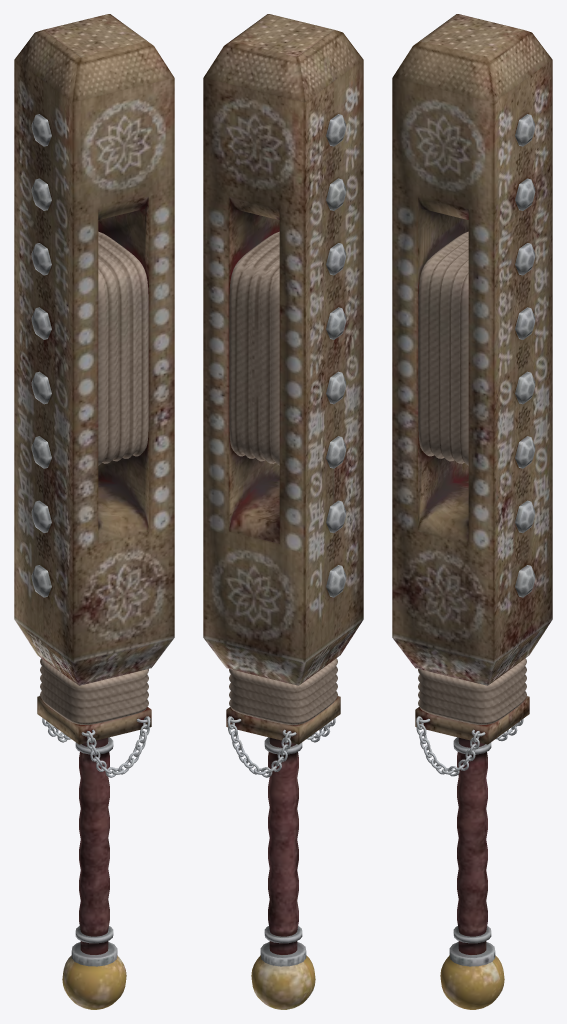
File: weapon.glb
The picture shows the model from 3 angles, left to right: view 1: azimuth 30°, elevation 25°; view 2: azimuth 150°, elevation 25°; view 3: azimuth 330°, elevation 25°; orthographic projection.
Parts seen in each view (by area): view 1: defaultMaterial (×5); view 2: defaultMaterial (×5); view 3: defaultMaterial (×5).
Boxes of the visible parts, box(x1,y1,x2,y2) form: defaultMaterial (×5): box(14, 14, 174, 1009); defaultMaterial (×5): box(203, 14, 363, 1009); defaultMaterial (×5): box(392, 14, 552, 1009).
Size of the model in its own units: 0.2524 by 2 by 0.2287.
Materials: 5 (5 with a texture image).
